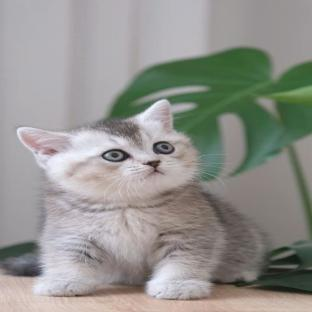Animal: (1, 100, 268, 300)
